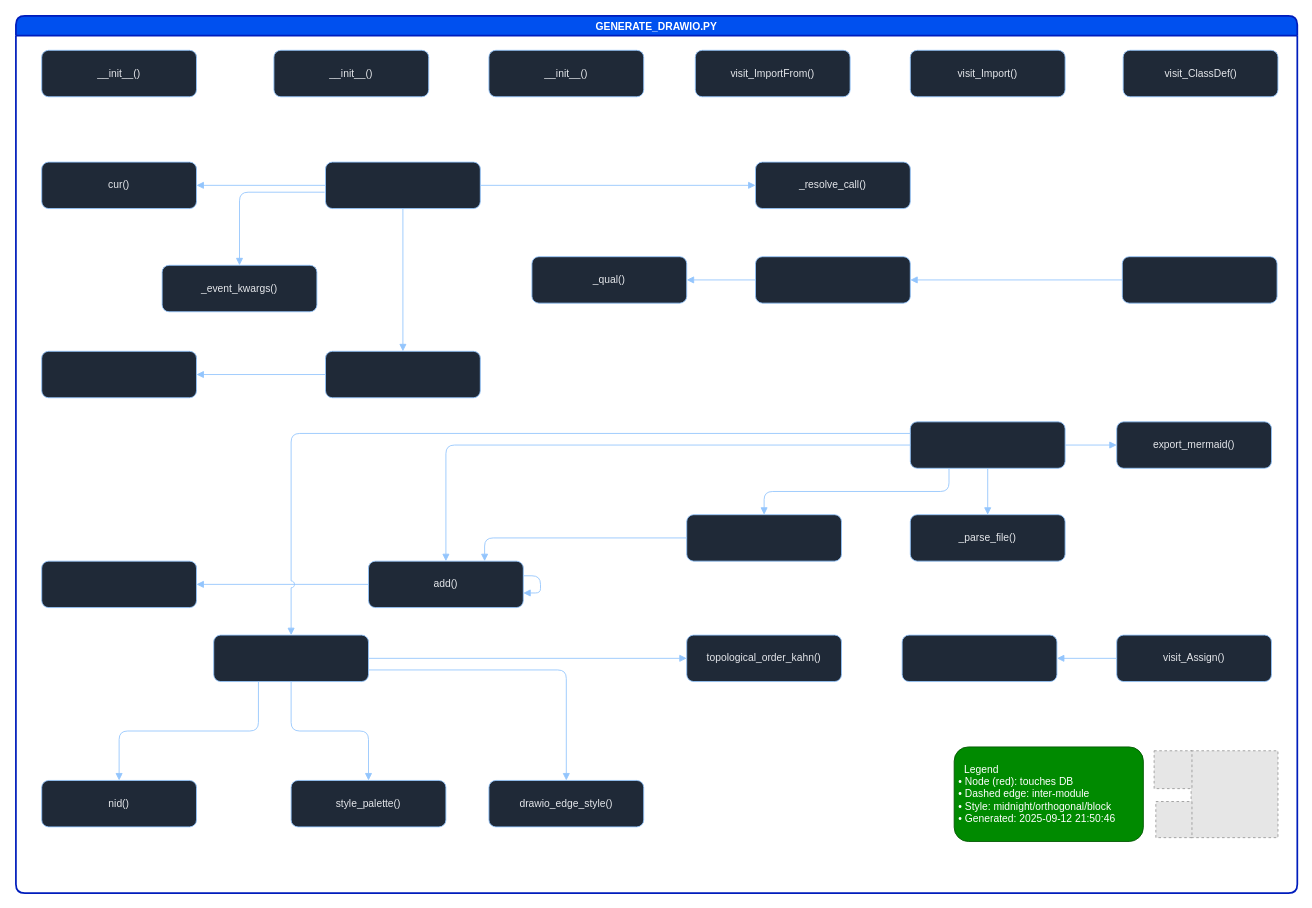
Image size: 1312x908. Some labels were removed from this diagram. Grey dashed boxes stand in for pictures. Here are the shapes that lost their labels. From the top down, the centre of each, then its label:
[402,185]: visit_Call()
[832,279]: visit_FunctionDef()
[1199,279]: visit_AsyncFunctionDef()
[119,374]: scan_string()
[402,374]: _label_from_args()
[987,444]: main()
[764,537]: _iter_files()
[119,584]: _should_ignore()
[291,658]: export_drawio()
[979,658]: _extract_path_str()
